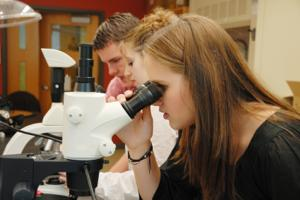person: (106, 16, 300, 200)
